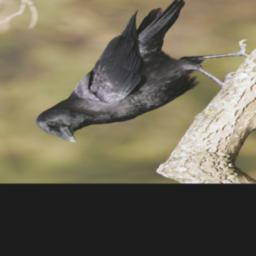Crow: (0, 0, 256, 149)
